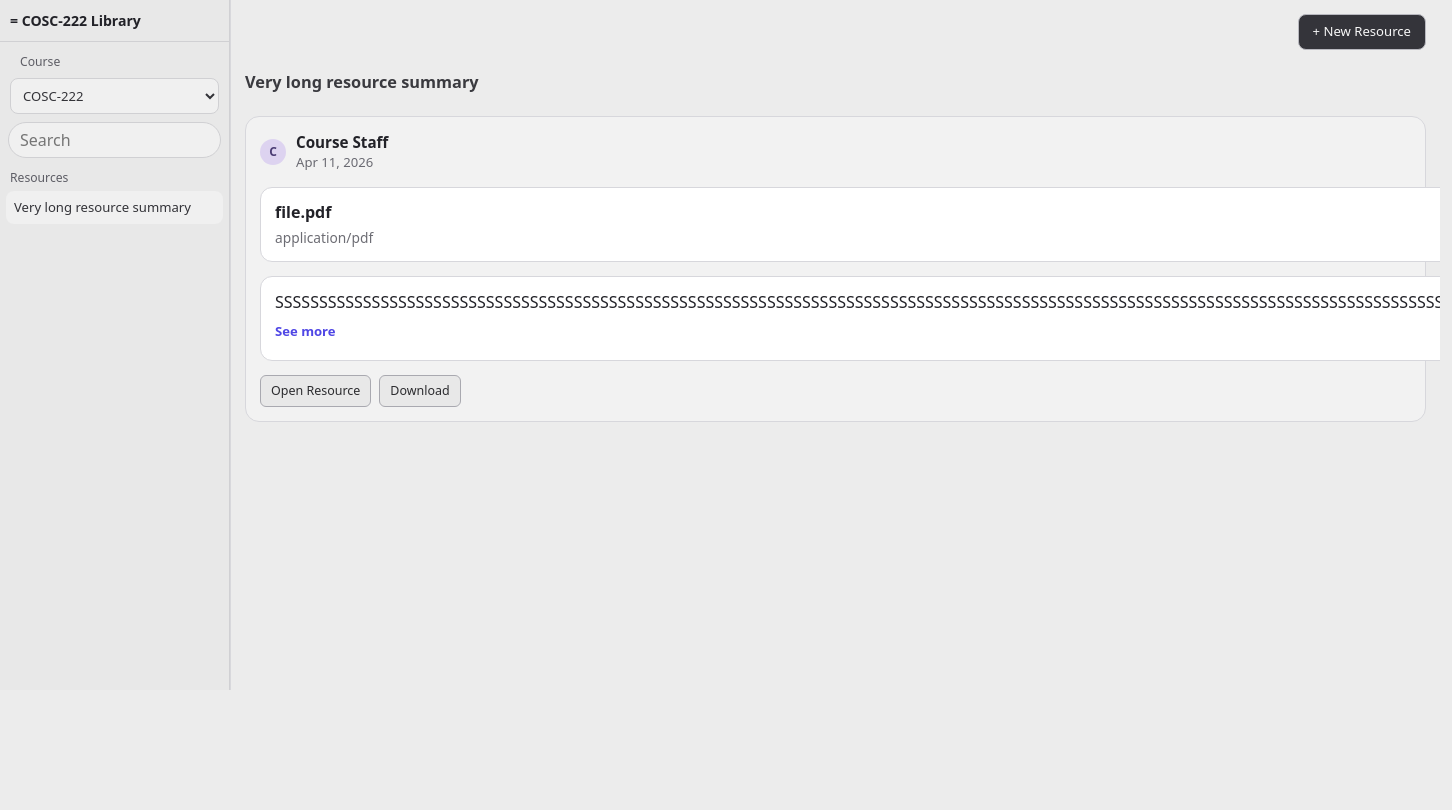
Test: ResourcesPage › truncates long resource summaries and expands them
Click the button "See more". click: point(305, 332)
box: [275, 318, 336, 346]
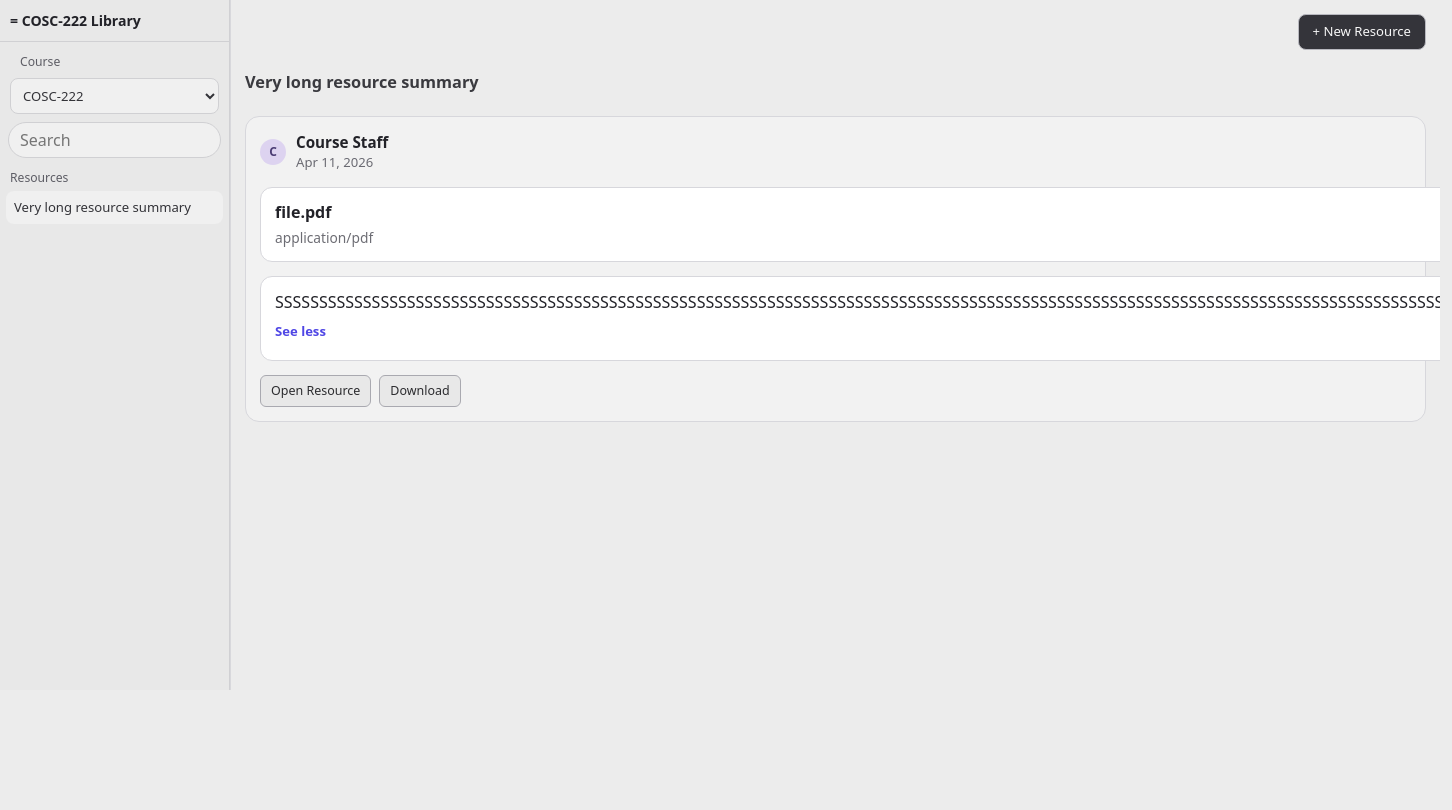
Result: the button "See less" is shown at [275, 318, 326, 346]
